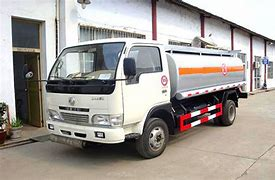oil truck: (39, 33, 246, 158)
